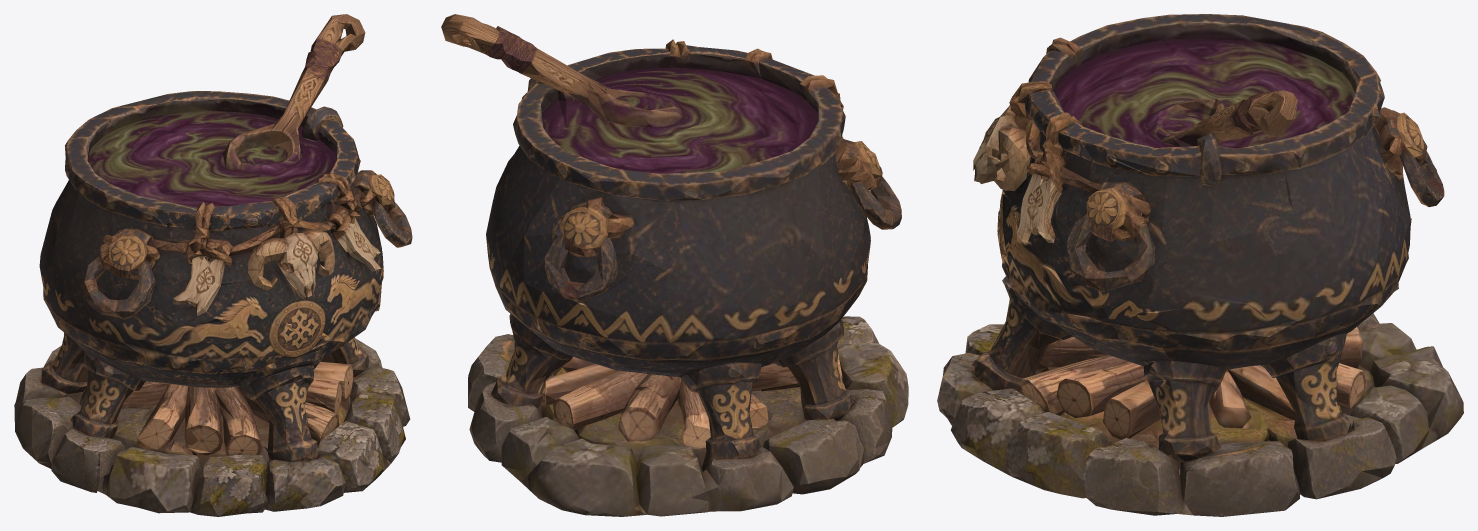
Rendered from n_kazan.glb.
The picture shows the model from 3 angles, left to right: view 1: azimuth 30°, elevation 25°; view 2: azimuth 150°, elevation 25°; view 3: azimuth 270°, elevation 25°; orthographic projection. The views are drawn at different scales.
Parts seen in each view (by area): view 1: output_unwrapped; view 2: output_unwrapped; view 3: output_unwrapped.
Boxes of the visible parts, x1,y1,x2,y2 form: output_unwrapped: (14, 14, 412, 516); output_unwrapped: (441, 14, 908, 516); output_unwrapped: (937, 14, 1463, 516).
Size of the model in its own units: 1.74 by 1.67 by 1.9.
1 material, 1 textured.
